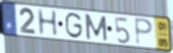2: (19, 7, 37, 37)
5: (114, 15, 132, 45)
G: (65, 12, 84, 41)
H: (35, 7, 60, 37)
M: (83, 13, 109, 43)
P: (133, 16, 155, 47)
